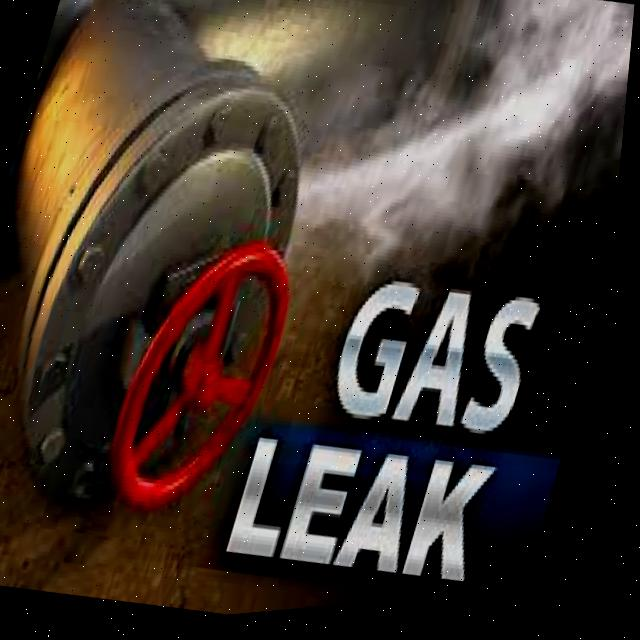corrosion: (217, 65, 408, 351)
